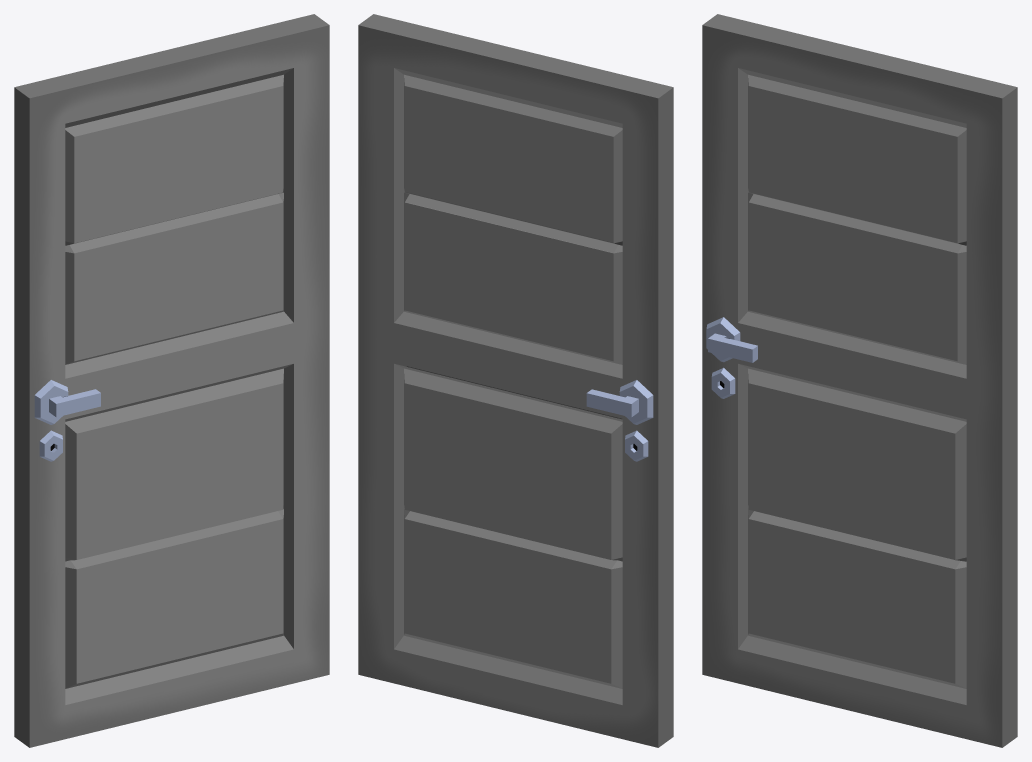
File: PuertaExterior.fbx
3 renders of one model, left to right at view 1: azimuth 30°, elevation 25°; view 2: azimuth 150°, elevation 25°; view 3: azimuth 330°, elevation 25°, orthographic.
Visible parts, largest first — view 1: PuertaExterior, PuertaExteriorManija; view 2: PuertaExterior, PuertaExteriorManija; view 3: PuertaExterior, PuertaExteriorManija.
Part boxes in pixels (x1,y1,x2,y2): PuertaExterior: [14, 14, 329, 747]; PuertaExteriorManija: [49, 389, 100, 417]; PuertaExterior: [358, 14, 673, 747]; PuertaExteriorManija: [586, 389, 638, 417]; PuertaExterior: [702, 14, 1017, 747]; PuertaExteriorManija: [708, 333, 757, 362].
Bounding box in the file's own units: 64.43 × 133 × 13.58.
